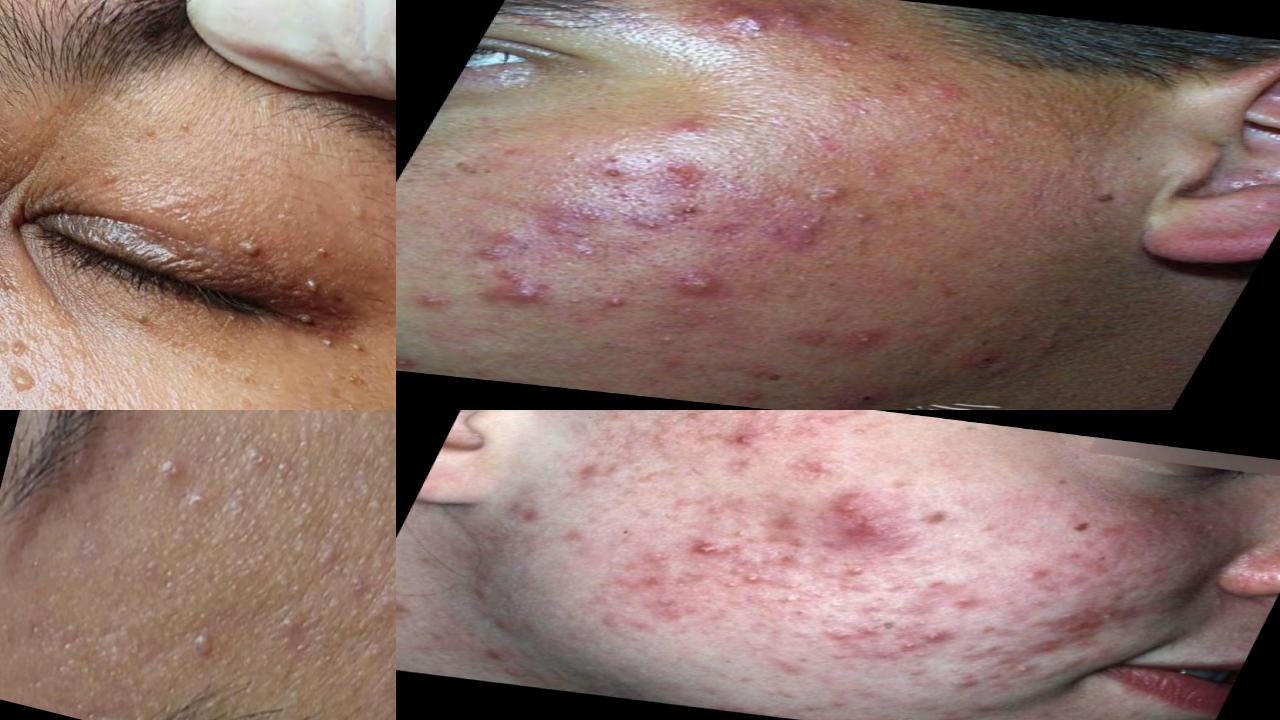flat_wart: (1, 310, 57, 411), (36, 385, 129, 411)
milium: (293, 258, 344, 308), (348, 338, 370, 367)
papular: (712, 429, 776, 463), (791, 179, 856, 211), (1002, 562, 1063, 596), (836, 518, 900, 549), (618, 569, 680, 598), (929, 591, 986, 622), (823, 493, 875, 519), (809, 622, 860, 648), (846, 623, 894, 645), (914, 625, 957, 646)
purulent: (651, 267, 735, 305), (170, 477, 225, 534), (823, 322, 912, 357), (142, 448, 199, 496), (399, 287, 463, 323), (679, 535, 738, 566), (382, 649, 397, 706)
sebo-crystan-conglo: (442, 218, 550, 269), (760, 203, 851, 258), (523, 202, 609, 245), (694, 1, 777, 44), (764, 1, 826, 46), (657, 160, 720, 201), (481, 278, 552, 314), (397, 348, 442, 374)
whitehead: (258, 589, 329, 670), (618, 325, 699, 363), (299, 531, 340, 583), (183, 628, 226, 676), (231, 442, 272, 483), (270, 457, 302, 503), (996, 656, 1048, 683), (826, 558, 883, 582), (887, 638, 931, 662), (778, 452, 815, 476), (721, 524, 758, 546), (752, 426, 793, 445), (742, 573, 774, 591), (774, 593, 805, 611), (739, 411, 778, 419)
